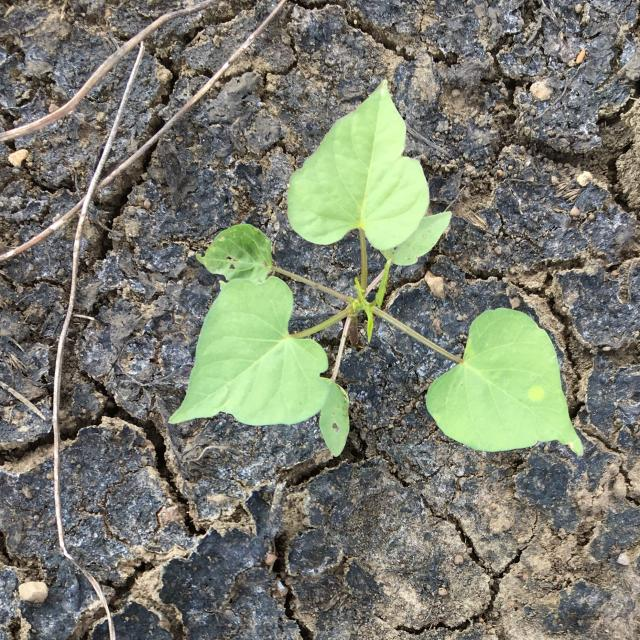MorningGlory: (168, 80, 584, 458)
